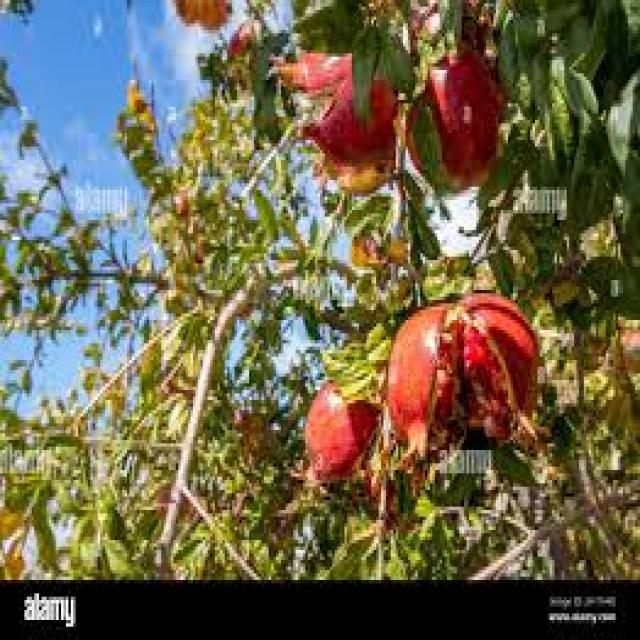overripe: (389, 292, 547, 470)
